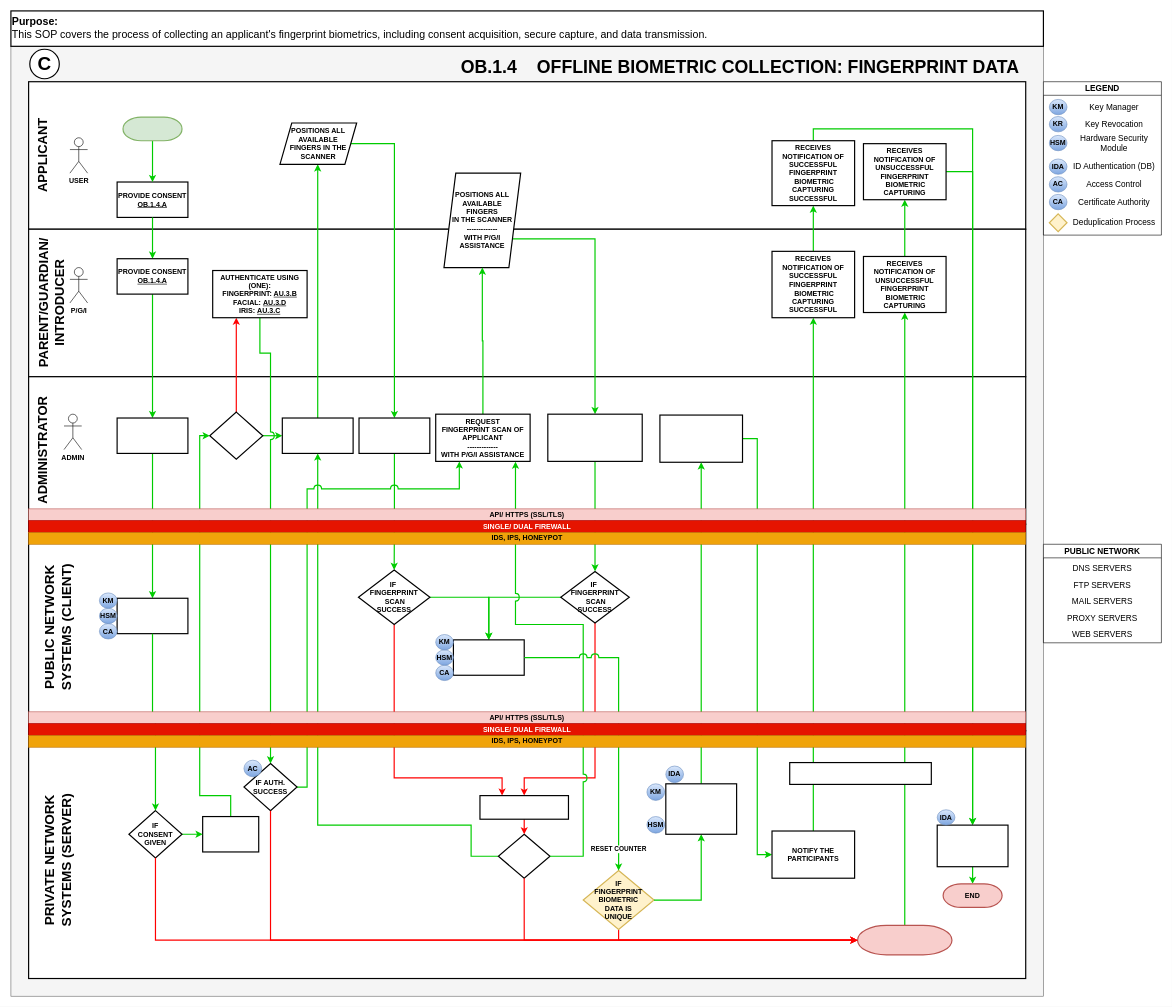
The diagram is 1172 pixels wide and 1007 high, and some of its shapes have lost their labels. The shapes that lost their labels are listed below. From the top down, each one's centre as x and y in pixels, then its label:
(152,128): START
(152,435): VERIFY CONSENT GIVEN FOR BIOMETRIC COLLECTION
(236,435): IF APPLICANT AGE >5
(317,435): REQUEST FINGERPRINT SCAN OF APPLICANT
(394,435): CAPTURE FINGERPRINT IMAGE OF APPLICANT
(595,437): CAPTURE FINGERPRINT IMAGE OF APPLICANT ------------- WITH P/G/I ASSISTANCE
(701,438): RECEIVES CONFIRMATION OF FINGERPRINT BIOMETRIC CAPTURE COMPLETED
(152,615): MASK & ENCRYPT RID AND APPLICANT DETAILS
(489,657): MASK & ENCRYPT FINGERPRINT SCAN
(860,773): NOTIFICATION GENERATOR
(524,807): EXCEPTION AND ERROR HANDLING (COUNTER)
(701,809): STORE FINGERPRINT BIOMETRIC DATA IN RID ACCOUNT WITH ENCRYPTION AND HASHING
(230,834): INITIATES FINGERPRINT BIOMETRIC COLLECTION
(972,845): LOGS THE PROCESS AND STATUS
(523,856): IF RETRY COUNT < = 3
(904,940): TERMINATE PROCESS: REJECT APPLICATION
